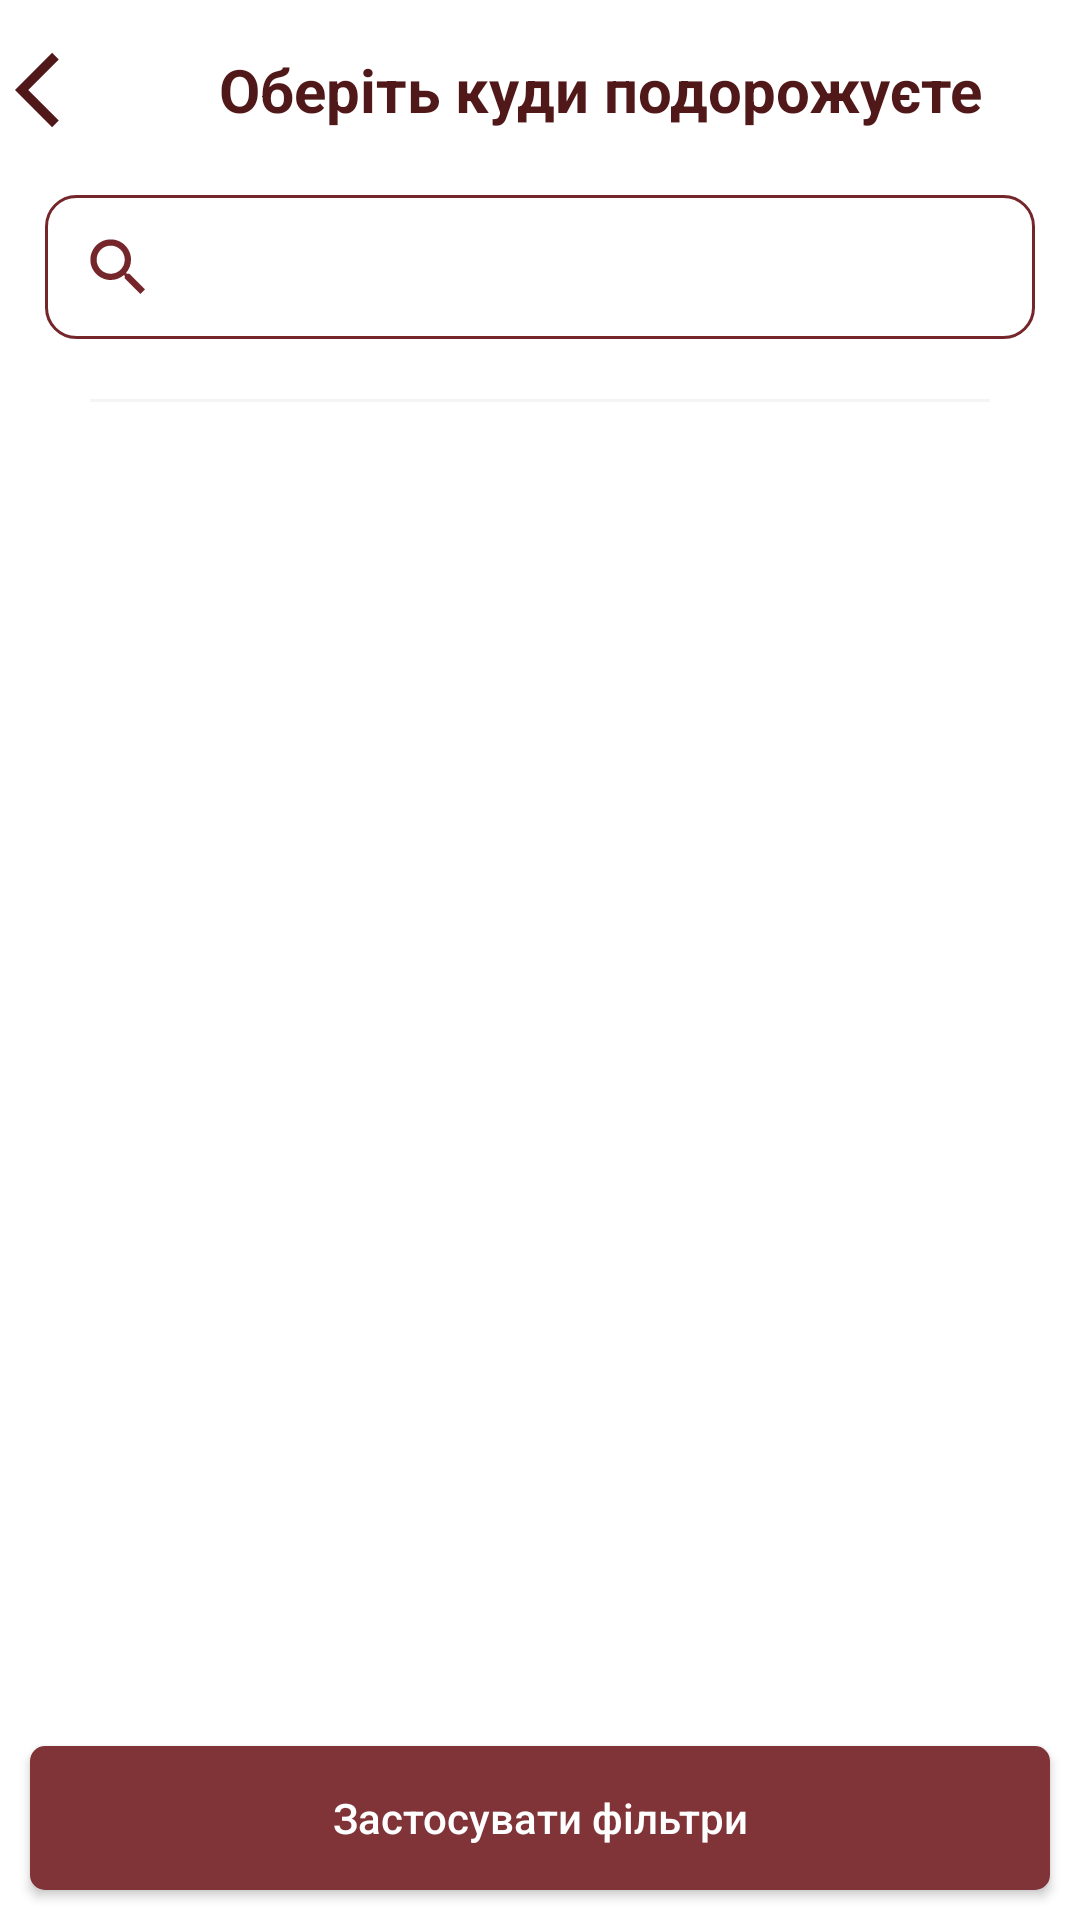

Screen size 1080px x 1920px. Icon name, then its center in pixels as [x,y]:
back arrow: [37,90]
